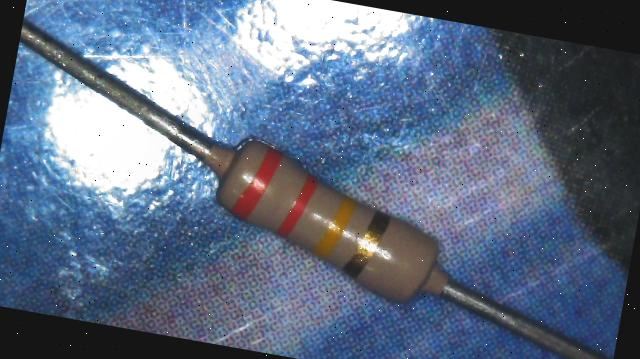gold: (342, 208, 391, 282)
orange: (231, 142, 283, 223), (276, 170, 319, 241)
resistor: (184, 102, 468, 329)
yellow: (313, 192, 357, 262)
